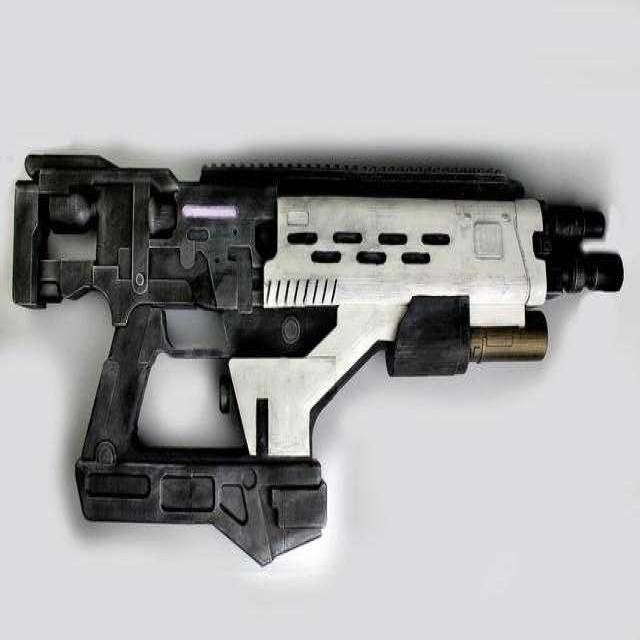heavyweapon: (10, 130, 628, 563)
